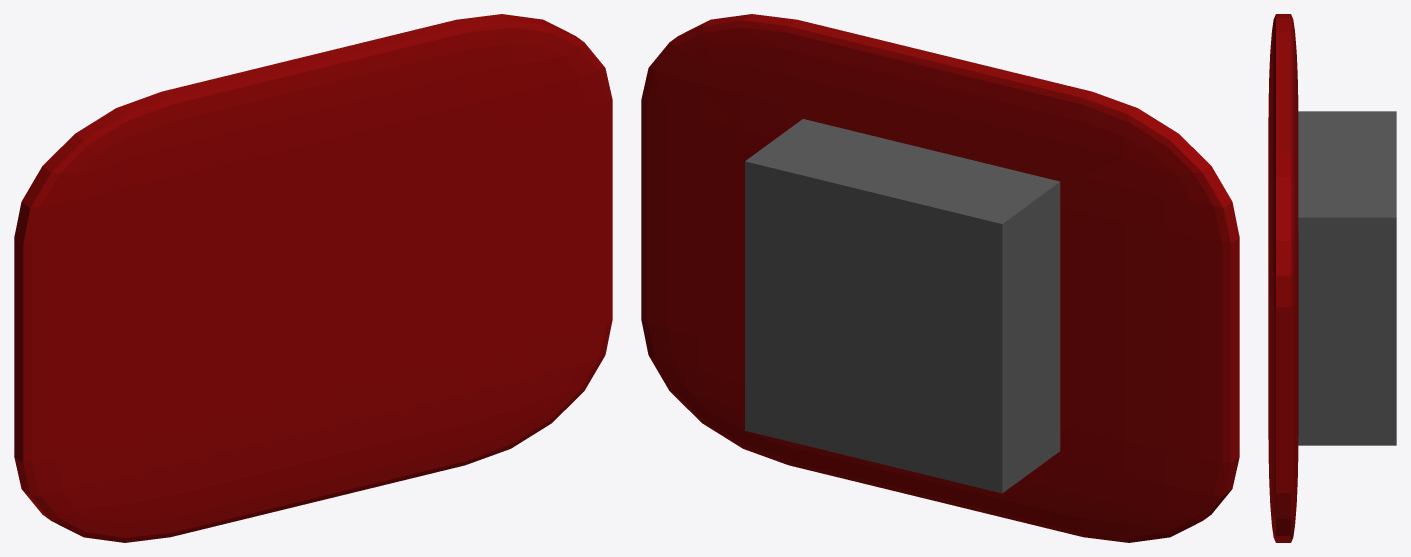
Rendered from lift.dae.
The picture shows the model from 3 angles, left to right: view 1: azimuth 30°, elevation 25°; view 2: azimuth 150°, elevation 25°; view 3: azimuth 270°, elevation 25°; orthographic projection. The views are drawn at different scales.
Visible parts, largest first — view 1: lift; view 2: lift; view 3: lift.
Part boxes in pixels (left/top/right/bottom): lift: left=14, top=14, right=612, bottom=542; lift: left=641, top=14, right=1239, bottom=542; lift: left=1268, top=14, right=1396, bottom=542.
Size of the model in its own units: 1.14 by 0.255 by 0.815.
